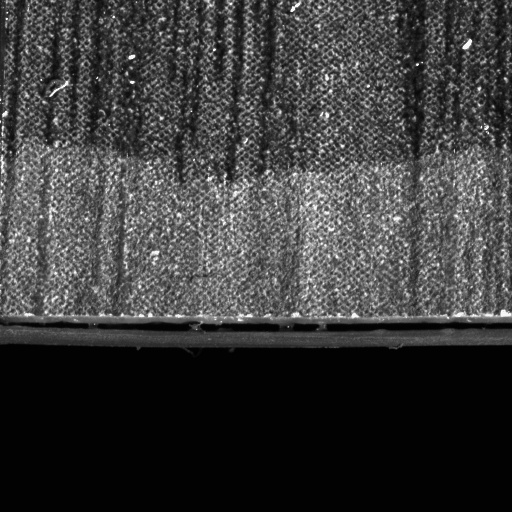kaijiao: (0, 309, 511, 351)
